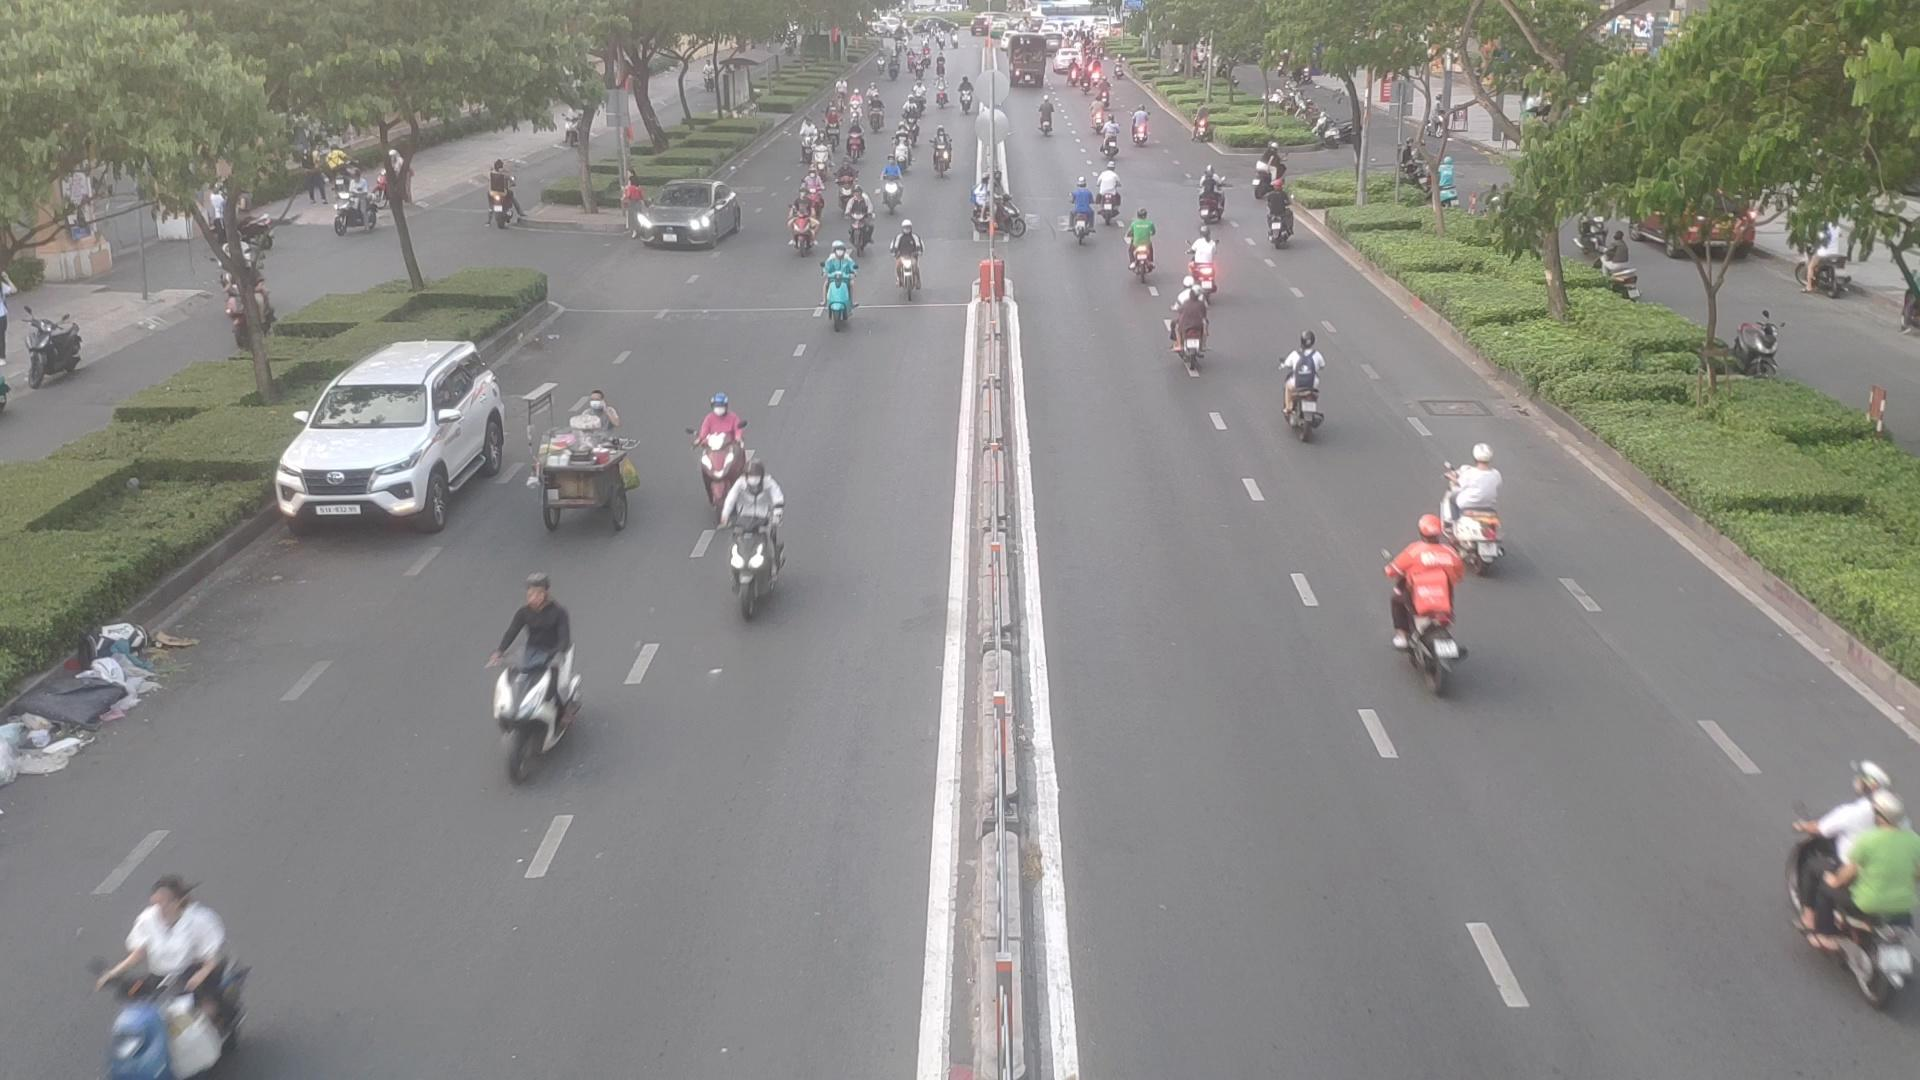car: (272, 342, 522, 531), (622, 183, 754, 251)
motorbike: (1783, 760, 1920, 1013), (108, 891, 257, 1080), (483, 608, 585, 782), (1381, 542, 1476, 688), (720, 454, 789, 621), (1439, 440, 1516, 567), (687, 384, 746, 504), (1270, 338, 1331, 440), (1162, 294, 1215, 378), (812, 256, 866, 334), (1179, 240, 1226, 309), (1069, 175, 1121, 237), (893, 214, 926, 305), (1124, 218, 1166, 285), (1060, 185, 1105, 248), (785, 200, 823, 257), (843, 198, 877, 251), (1263, 206, 1296, 252), (1131, 113, 1158, 148), (1035, 105, 1062, 138)
